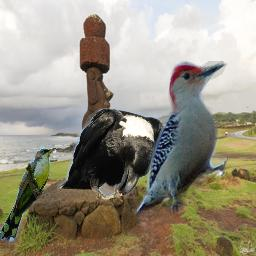Crow: (57, 106, 166, 203)
Cuckoo: (0, 148, 57, 242)
Woodpecker: (133, 61, 228, 218)
